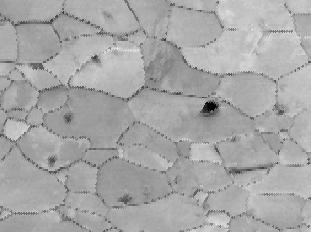good_void: (145, 53, 170, 85), (197, 97, 225, 119), (31, 56, 45, 75), (226, 165, 249, 176), (114, 192, 135, 204), (44, 152, 57, 169), (89, 53, 104, 67), (60, 110, 73, 126), (101, 8, 115, 22), (270, 99, 282, 115), (174, 175, 179, 184)
